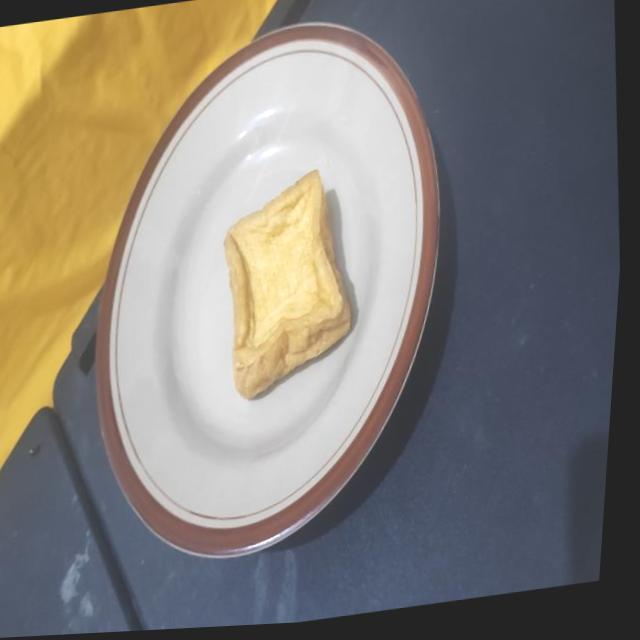tahu_goreng: (224, 170, 350, 398)
